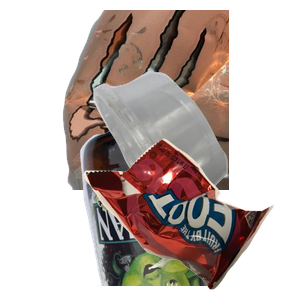glass: (78, 120, 281, 300)
metal: (60, 10, 300, 190)
plastic: (91, 69, 300, 249)
trash: (81, 136, 300, 300)
